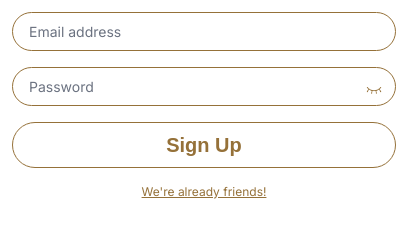
Scenario: SignupForm › shows an inline error message when the server action returns one
The image size is (415, 248).
Type "jane@example.com" into the field with placeholder "Email address" at (204, 32), box top-left (12, 12), bottom-right (396, 51)
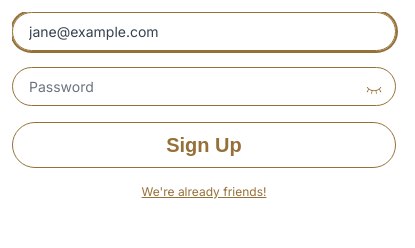
Type "testpass123" into the password field with placeholder "Password" at (204, 86), box top-left (12, 67), bottom-right (396, 106)
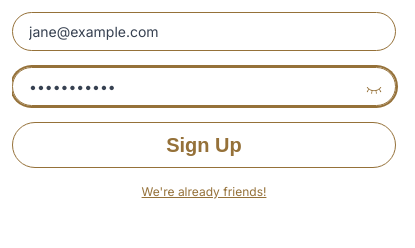
Click the button "Sign Up" at (204, 145), box top-left (12, 122), bottom-right (396, 168)
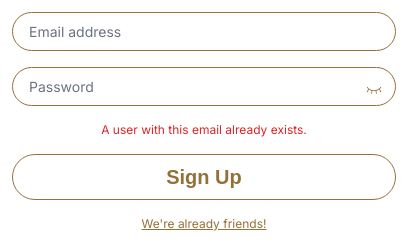
Now the message with test id "signup-message" reads "A user with this email already exists.", box top-left (101, 122), bottom-right (307, 137)
